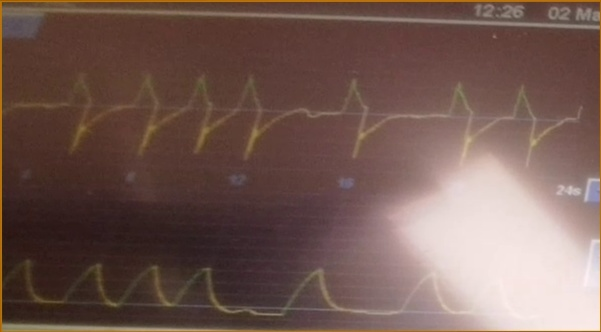Ineffective_effort Flow: (8, 68, 581, 170)
Ineffective_effort Volume: (4, 249, 532, 326)
